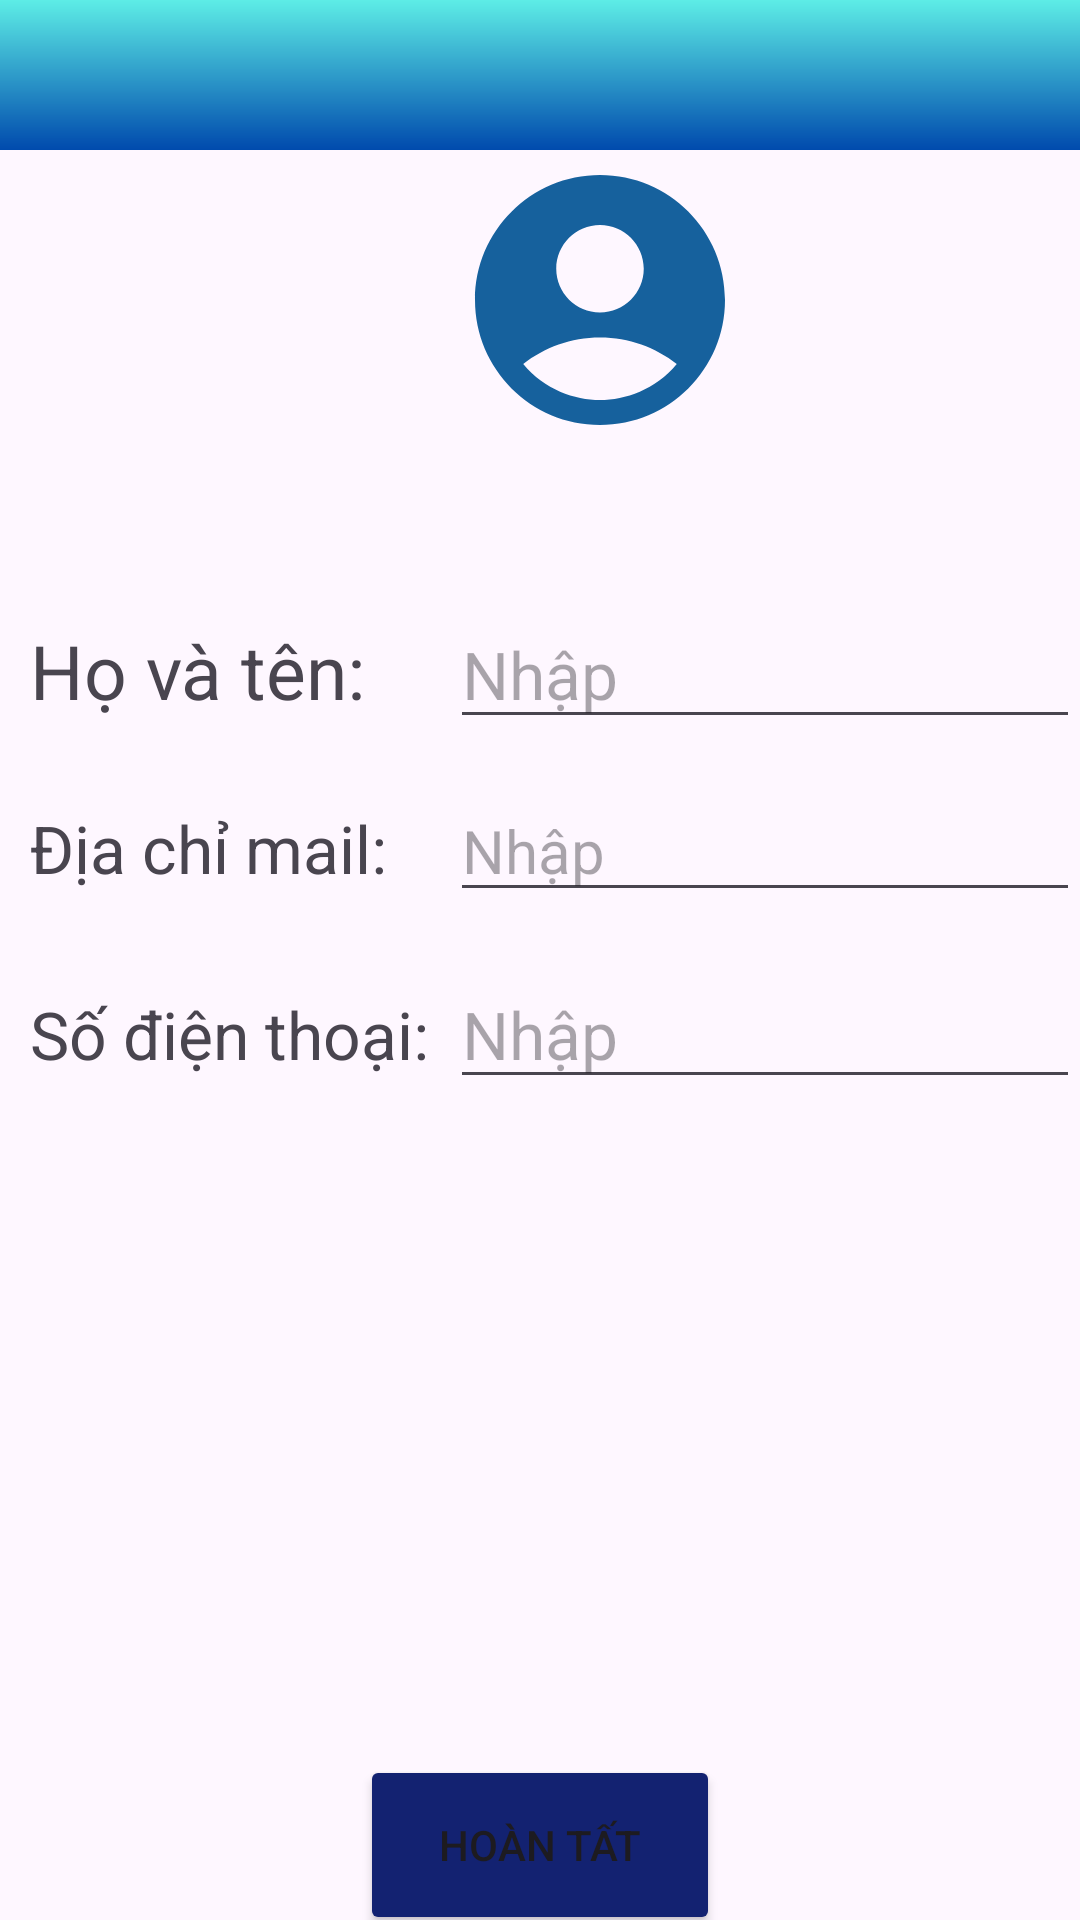

Icons on this 1080*1920 Android screen, each with the point to tap as point (x, y):
account circle: point (600, 300)
